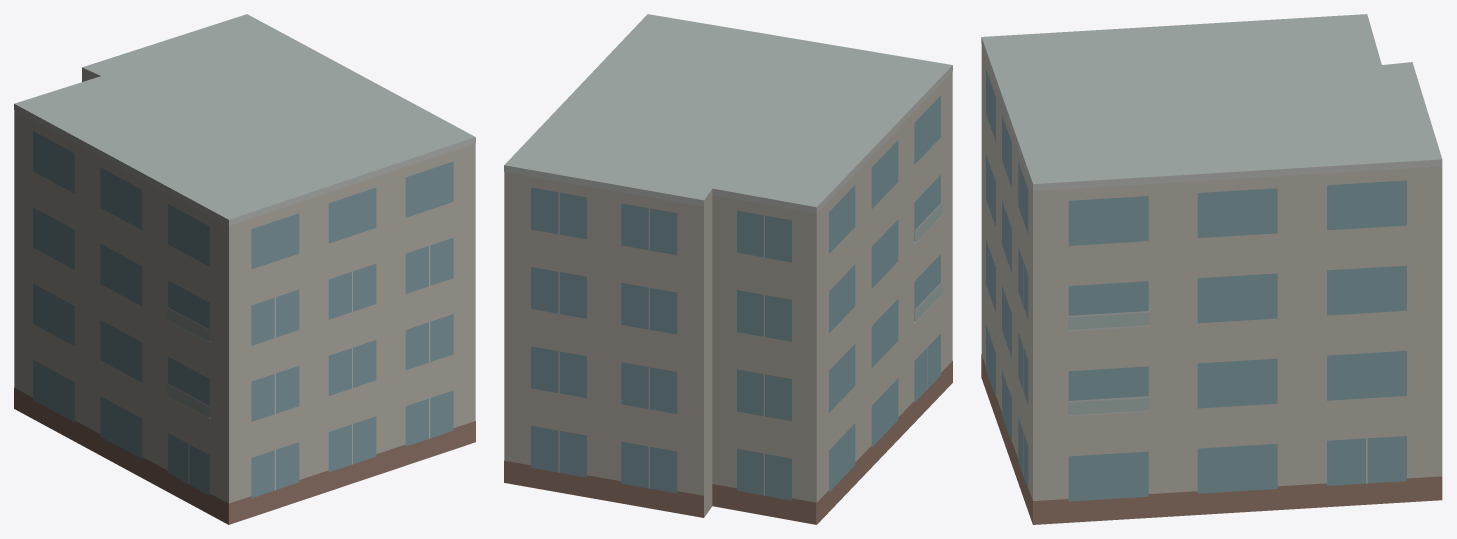
The model's file is survey-upis-32837527.glb.
3 renders of one model, left to right at view 1: azimuth 30°, elevation 25°; view 2: azimuth 150°, elevation 25°; view 3: azimuth 270°, elevation 25°, orthographic. The views are drawn at different scales.
Parts seen in each view (by area): view 1: survey-upis-32837527.tmp; view 2: survey-upis-32837527.tmp; view 3: survey-upis-32837527.tmp.
Boxes of the visible parts, x1,y1,x2,y2 form: survey-upis-32837527.tmp: [14, 14, 475, 524]; survey-upis-32837527.tmp: [504, 14, 952, 524]; survey-upis-32837527.tmp: [981, 14, 1442, 524].
Bounding box in the file's own units: 12.69 × 11.85 × 14.53.
